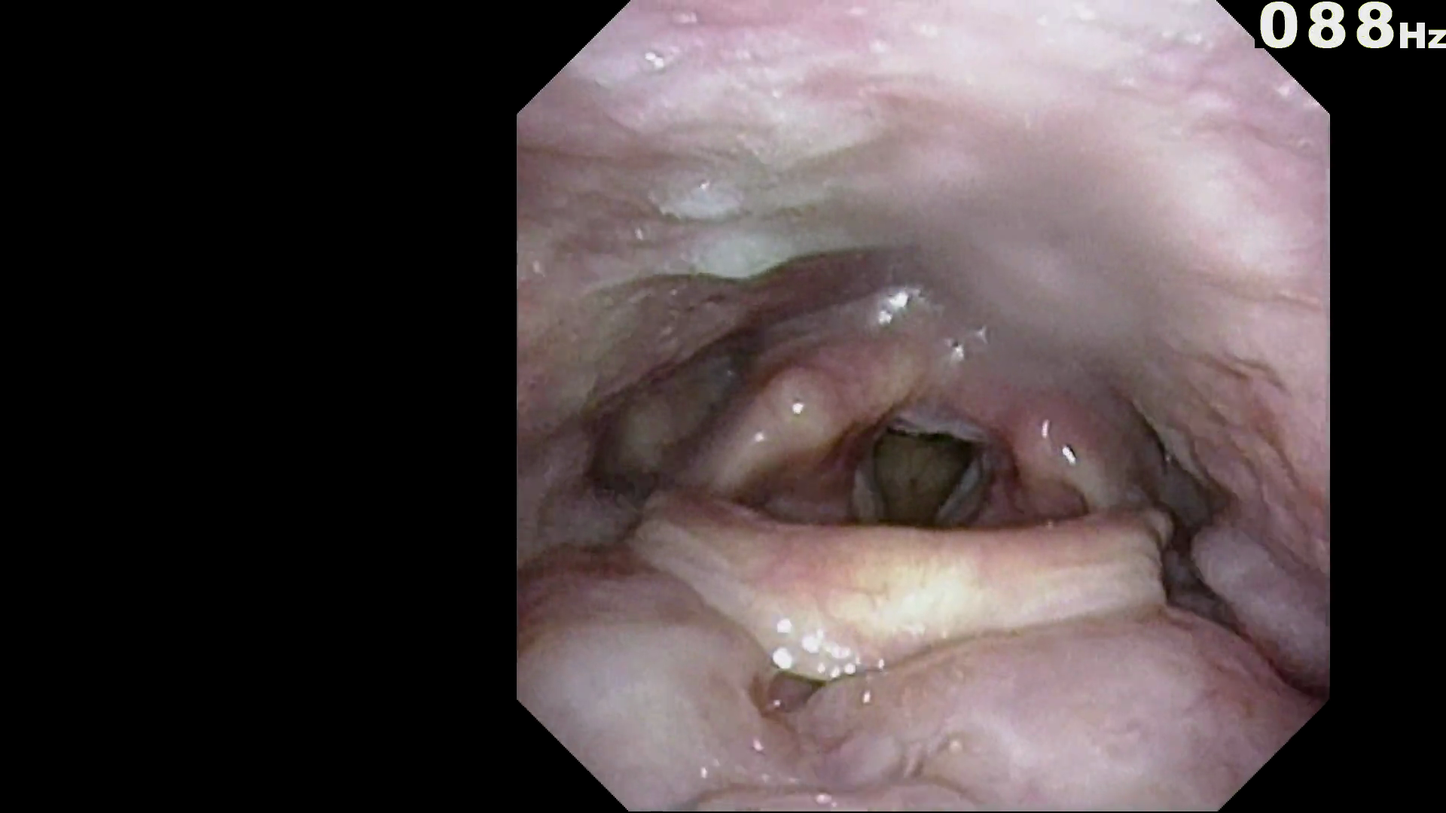epiglottis: (623, 502, 1182, 675)
trachea: (861, 419, 983, 530)
